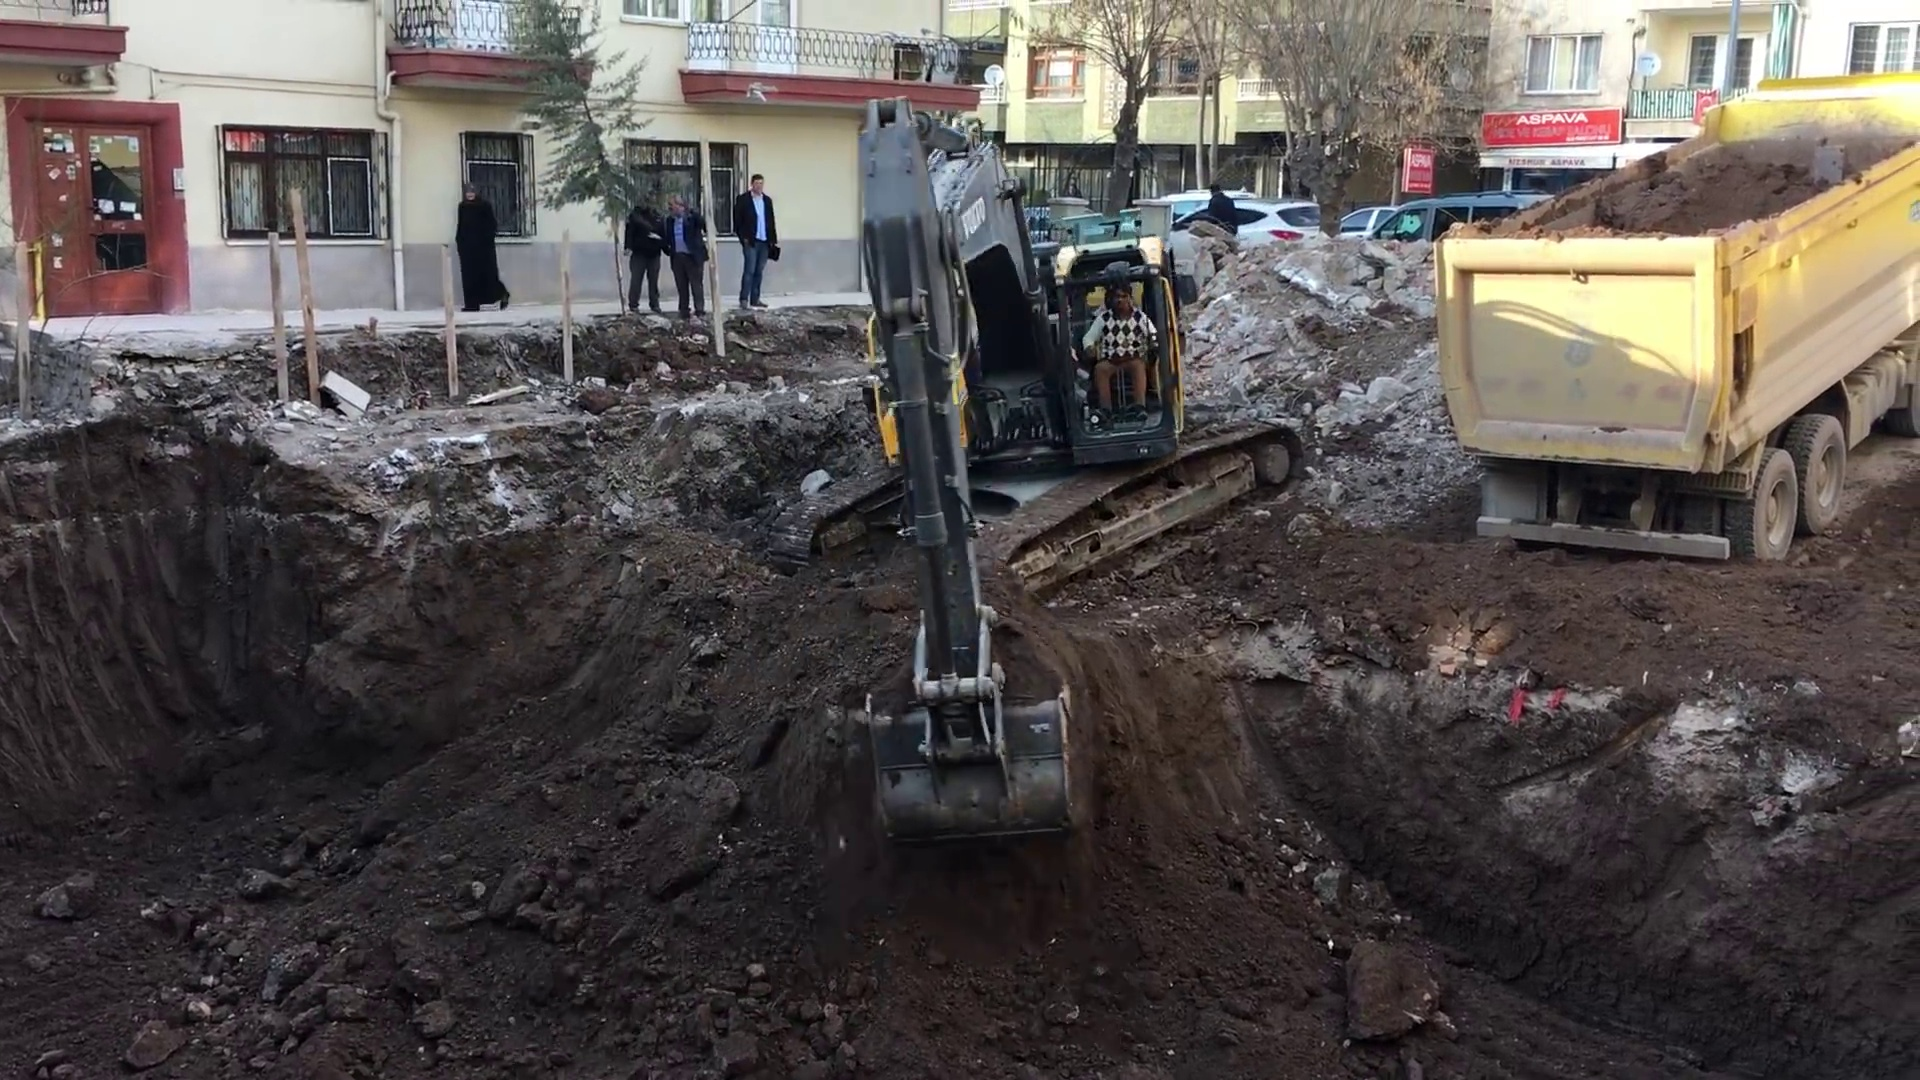car: (1375, 195, 1559, 268), (1191, 200, 1323, 250), (1347, 205, 1398, 254)
excavator: (812, 83, 1306, 855)
person: (453, 179, 516, 320), (735, 168, 783, 310), (1094, 294, 1151, 413), (620, 183, 666, 309), (669, 197, 714, 311), (1212, 182, 1235, 255)
truck: (1437, 61, 1920, 567)
